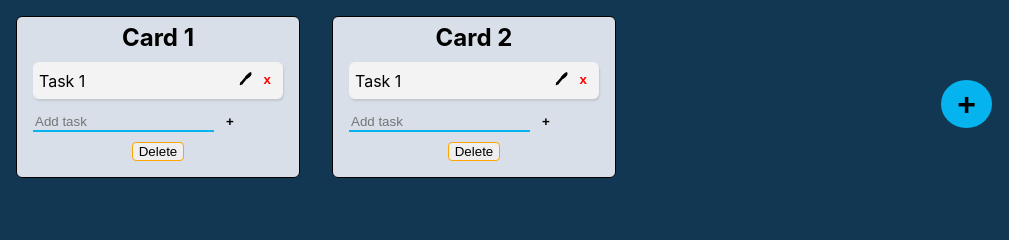
Test: CardSlice › should add a new task
Click the button with test id "card-1-add-task": (230, 122) [220, 113, 240, 130]
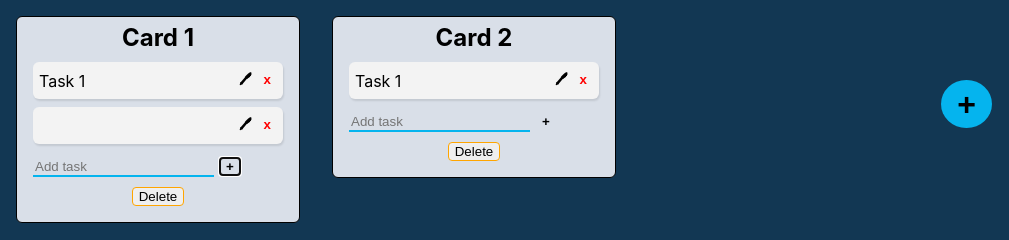
Result: the element with test id "card-1-task-2" is shown at [33, 107, 283, 144]
